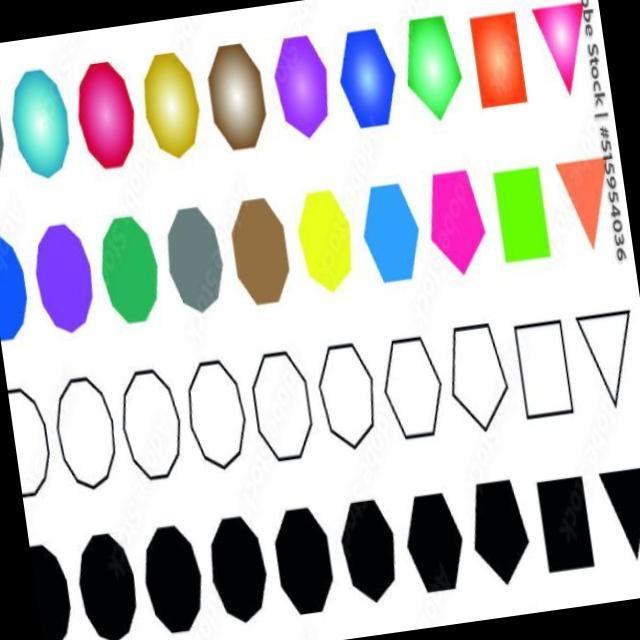square: (458, 6, 542, 119), (504, 310, 582, 428), (479, 160, 558, 271), (528, 467, 606, 579)
triangle: (566, 302, 640, 411), (552, 153, 626, 257), (529, 0, 604, 97)
